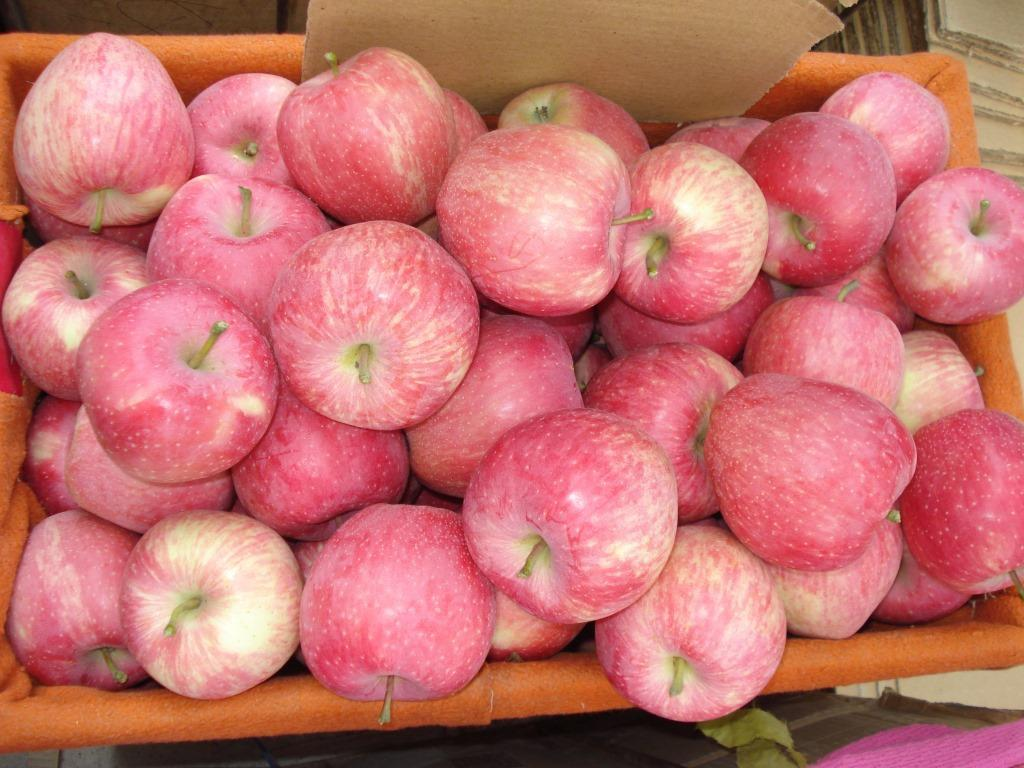apple: (458, 413, 678, 657), (293, 503, 502, 710), (14, 25, 219, 234), (704, 369, 916, 571), (75, 280, 279, 488), (276, 221, 480, 429), (436, 122, 634, 317), (596, 523, 785, 721), (119, 507, 304, 700), (274, 45, 453, 227), (617, 143, 769, 323), (141, 167, 334, 305), (739, 108, 895, 277), (904, 405, 1024, 590), (887, 164, 1024, 324), (815, 71, 953, 201)
